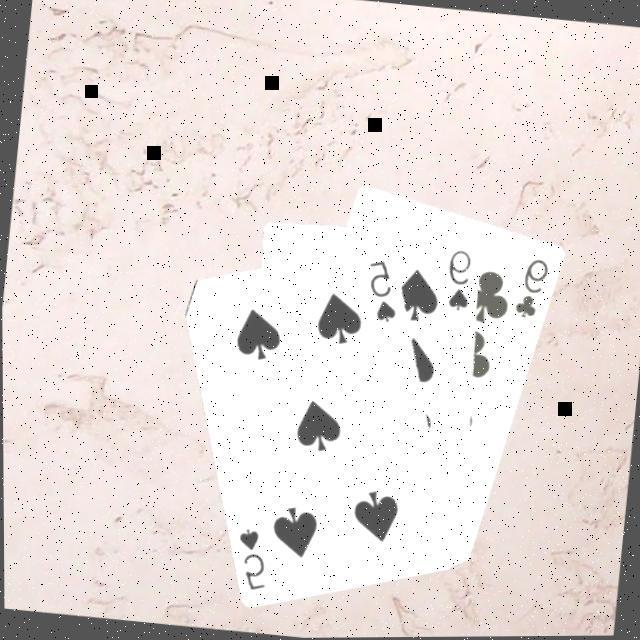5S: (230, 522, 276, 594), (361, 253, 406, 326)
9C: (512, 252, 554, 324)
9S: (442, 243, 478, 315)
